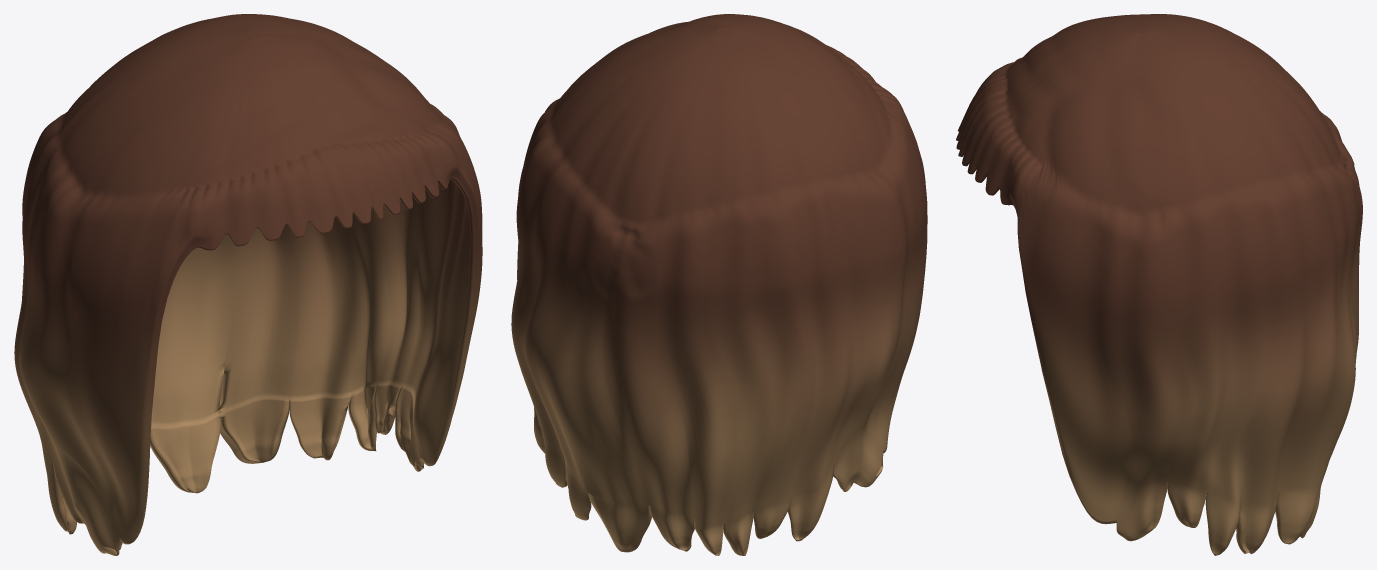
File: long-headband-ombre.glb
The picture shows the model from 3 angles, left to right: view 1: azimuth 30°, elevation 25°; view 2: azimuth 150°, elevation 25°; view 3: azimuth 270°, elevation 25°; orthographic projection. The views are drawn at different scales.
Parts seen in each view (by area): view 1: Hair / rounded long fringe; view 2: Hair / rounded long fringe; view 3: Hair / rounded long fringe.
Boxes of the visible parts, box(x1,y1,x2,y2) form: Hair / rounded long fringe: box(14, 14, 482, 555); Hair / rounded long fringe: box(511, 14, 927, 555); Hair / rounded long fringe: box(956, 14, 1362, 555).
Size of the model in its own units: 0.8536 by 1.04 by 0.7794.
